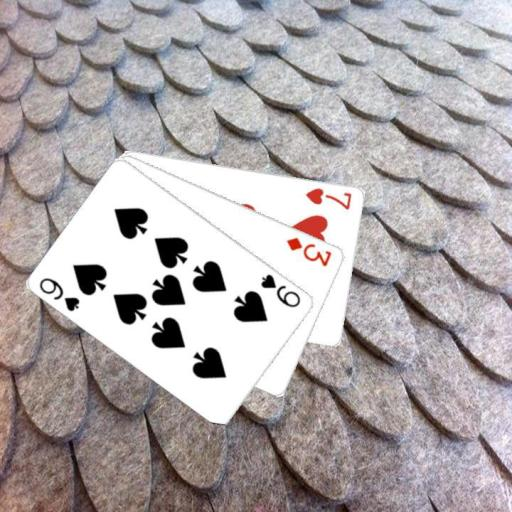3D: (283, 234, 334, 268)
7H: (303, 184, 354, 211)
9S: (257, 271, 303, 310), (36, 274, 82, 313)
